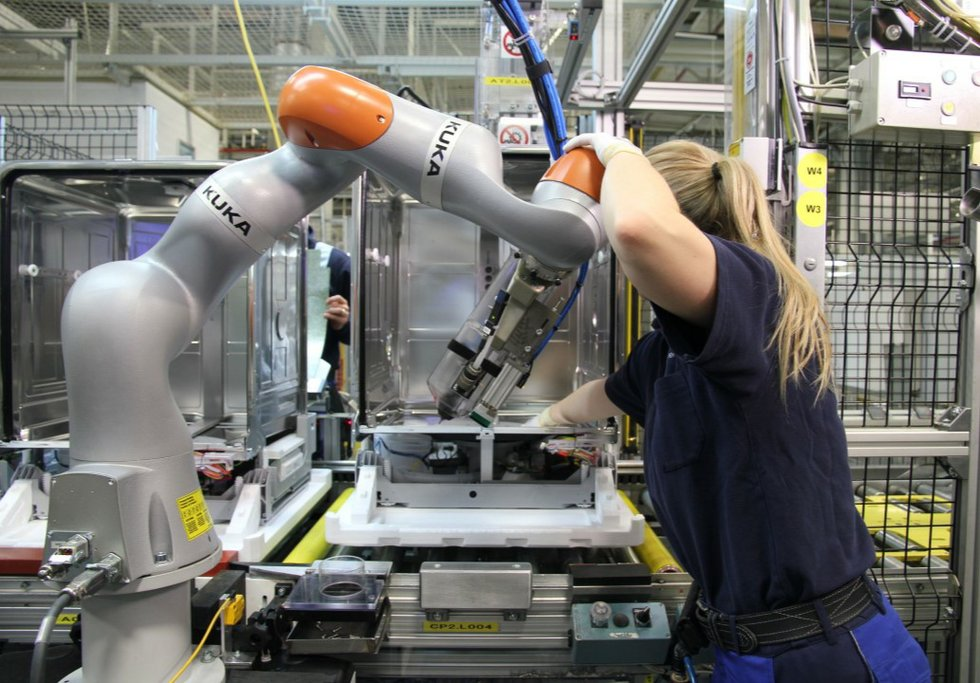person: (523, 130, 933, 683)
robot: (39, 64, 608, 683)
